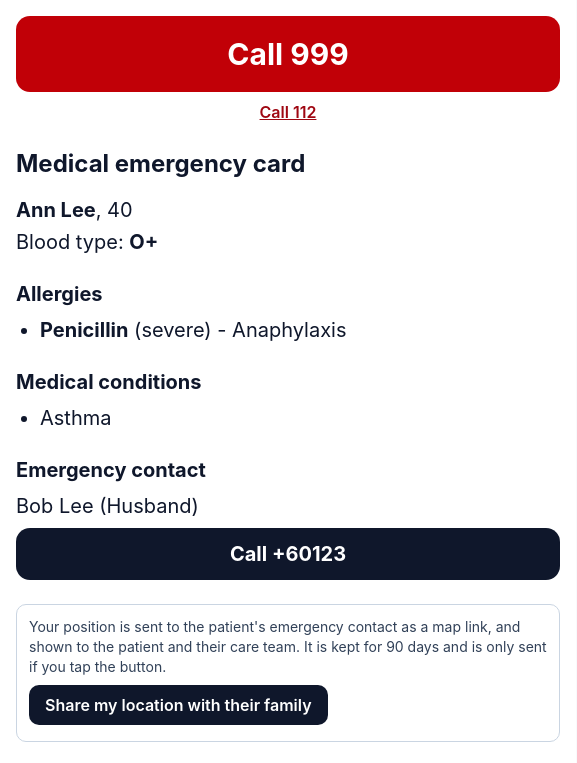
EmergencyPublic › location sharing › denied keeps the medical information and does not post
expect the text "Ann Lee" is shown: met, box [16,198,96,222]
Click the button "Share my location with their family": click(178, 705) [29,685,328,725]
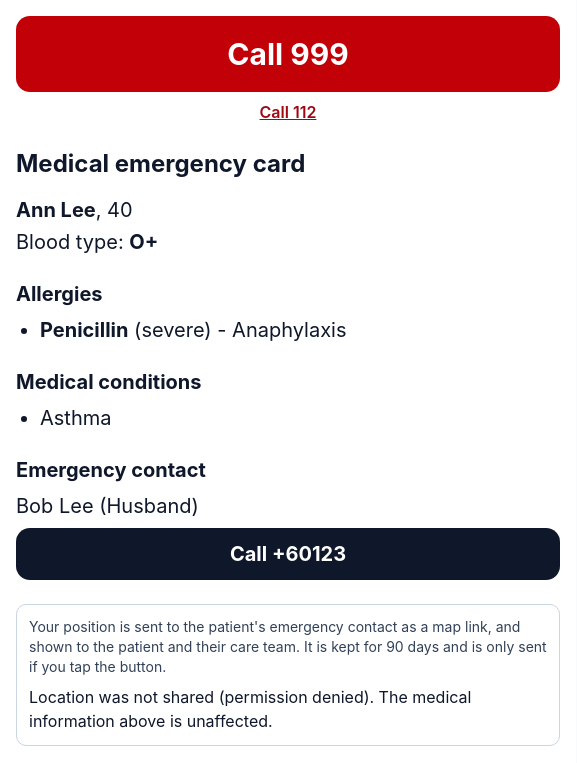
expect the list item "Asthma" is shown: met, box [40,406,112,430]
expect the message shows "permission denied": met, box [29,687,471,731]
